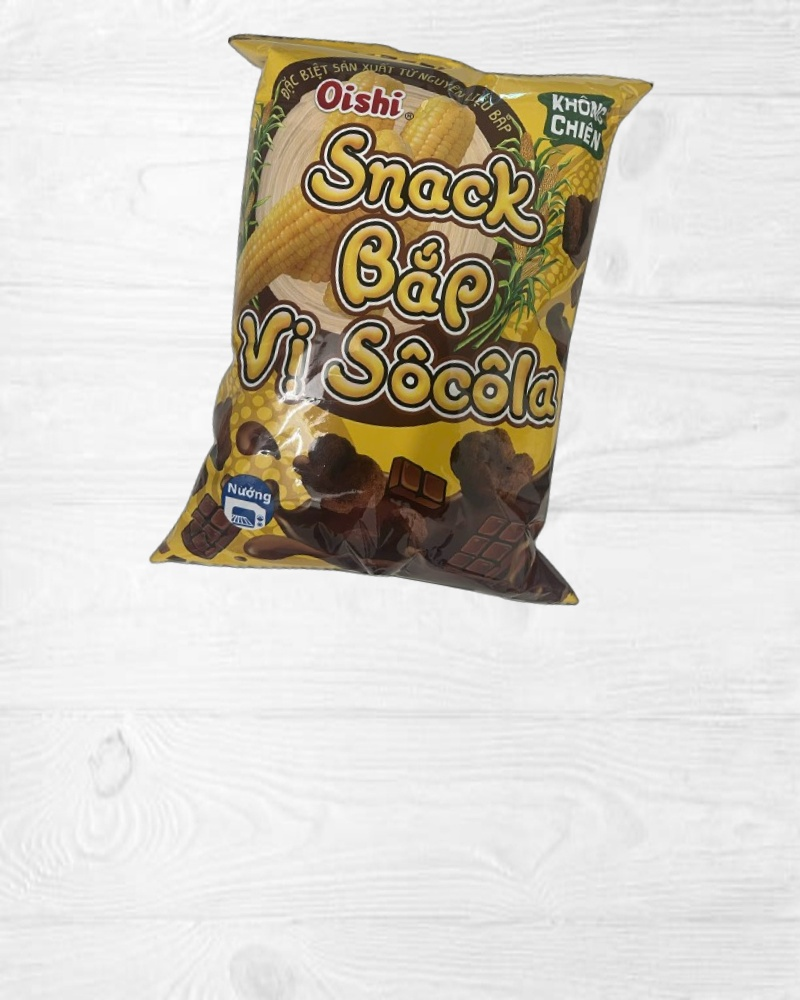Snack socola: (142, 13, 670, 626)
